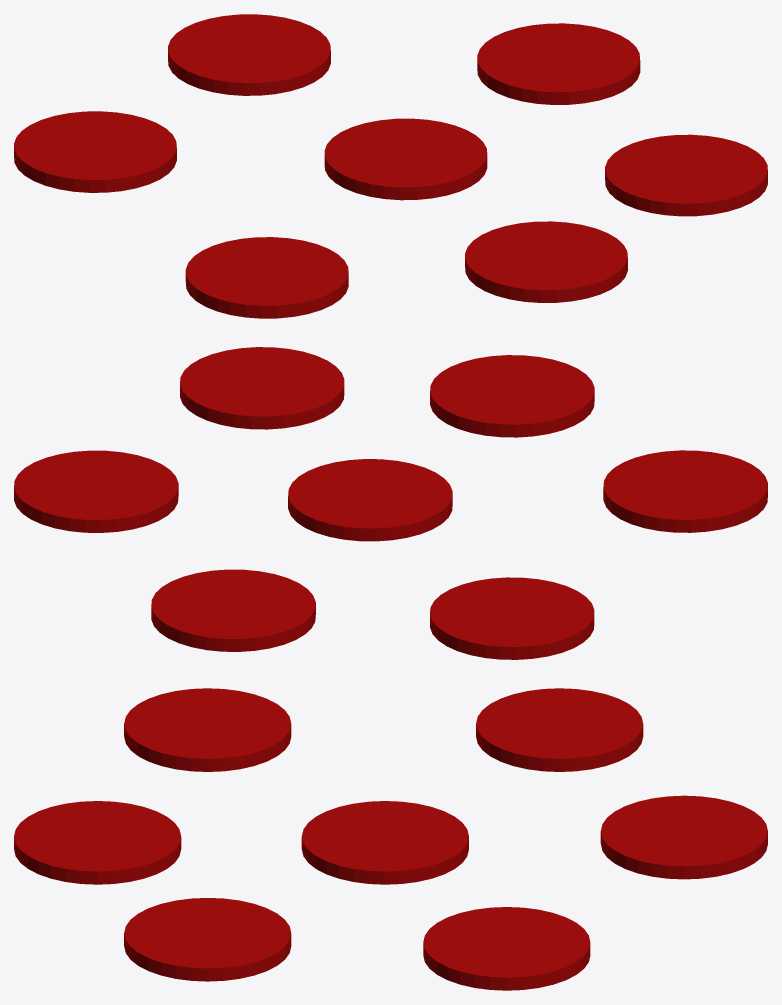
Rendered from pepperonitopping.fbx.
3 renders of one model, top to bottom at view 1: azimuth 30°, elevation 25°; view 2: azimuth 150°, elevation 25°; view 3: azimuth 270°, elevation 25°, orthographic. The views are drawn at different scales.
Parts seen in each view (by area): view 1: Cylinder, Cylinder.002, Cylinder.004, Cylinder.003, Cylinder.001, Cylinder.005, Cylinder.006; view 2: Cylinder, Cylinder.003, Cylinder.005, Cylinder.002, Cylinder.001, Cylinder.004, Cylinder.006; view 3: Cylinder.004, Cylinder.002, Cylinder.001, Cylinder.005, Cylinder, Cylinder.006, Cylinder.003.
Boxes of the visible parts, x1,y1,x2,y2 form: Cylinder: (324, 118, 487, 200); Cylinder.002: (185, 237, 348, 318); Cylinder.004: (477, 23, 640, 104); Cylinder.003: (168, 14, 330, 95); Cylinder.001: (14, 111, 176, 192); Cylinder.005: (465, 221, 627, 302); Cylinder.006: (605, 134, 767, 216); Cylinder: (288, 459, 452, 541); Cylinder.003: (151, 569, 315, 651); Cylinder.005: (430, 355, 594, 437); Cylinder.002: (603, 450, 767, 532); Cylinder.001: (430, 577, 594, 659); Cylinder.004: (14, 450, 178, 532); Cylinder.006: (180, 347, 344, 429); Cylinder.004: (423, 907, 590, 990); Cylinder.002: (124, 688, 291, 771); Cylinder.001: (476, 688, 643, 771); Cylinder.005: (14, 801, 181, 884); Cylinder: (301, 801, 468, 884); Cylinder.006: (124, 898, 291, 981); Cylinder.003: (600, 795, 767, 879).
Bounding box in the file's own units: 280 × 5.91 × 308.
